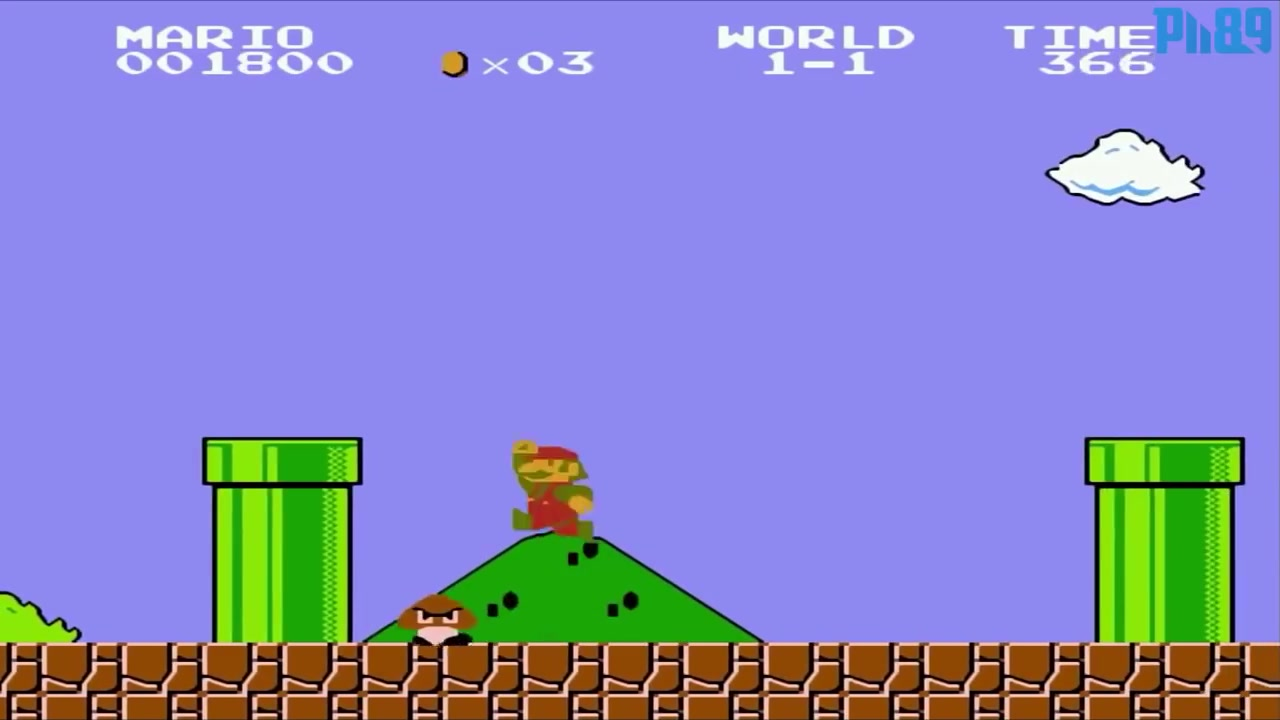mario: (501, 434, 608, 547)
